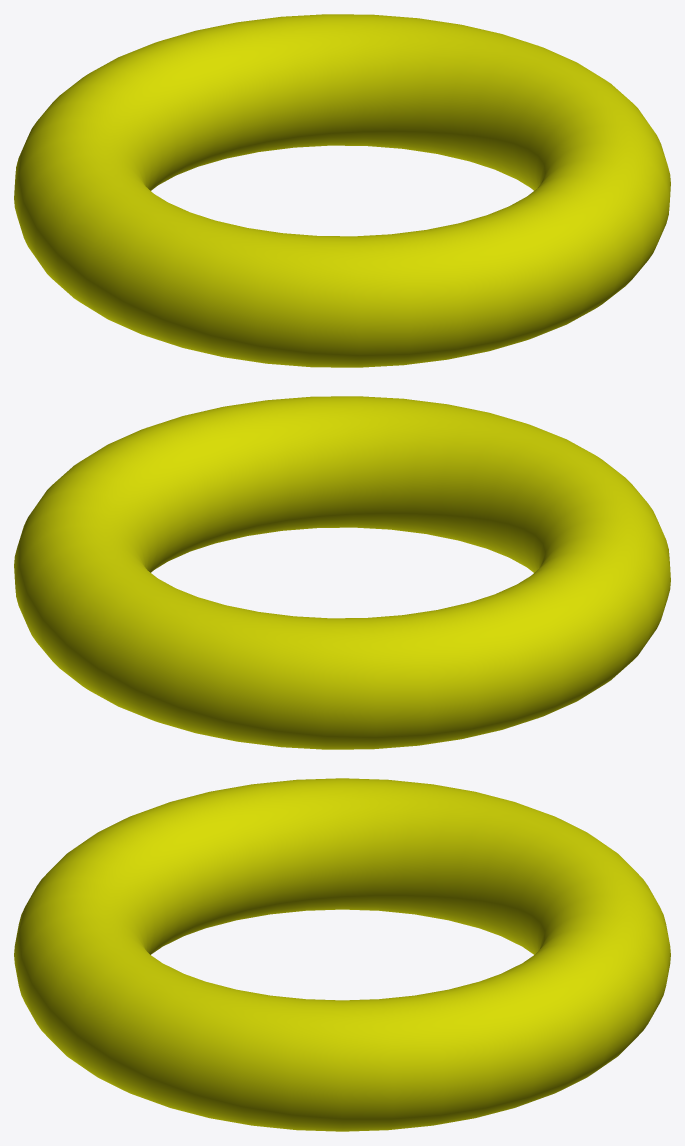
The model's file is Sonic_ring.fbx.
The picture shows the model from 3 angles, top to bottom: view 1: azimuth 30°, elevation 25°; view 2: azimuth 150°, elevation 25°; view 3: azimuth 270°, elevation 25°; orthographic projection.
Parts seen in each view (by area): view 1: Torus.001; view 2: Torus.001; view 3: Torus.001.
Boxes of the visible parts, bbox=[...] form: Torus.001: bbox=[14, 14, 670, 367]; Torus.001: bbox=[14, 396, 670, 749]; Torus.001: bbox=[14, 778, 670, 1131].
Size of the model in its own units: 1406 by 281 by 1406.
